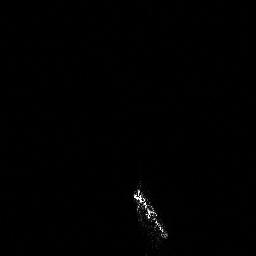ship: (131, 180, 170, 252)
